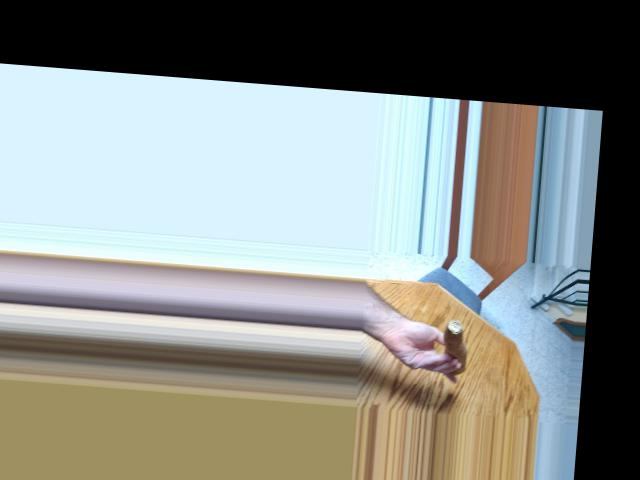sweet_potato: (448, 326, 470, 376)
